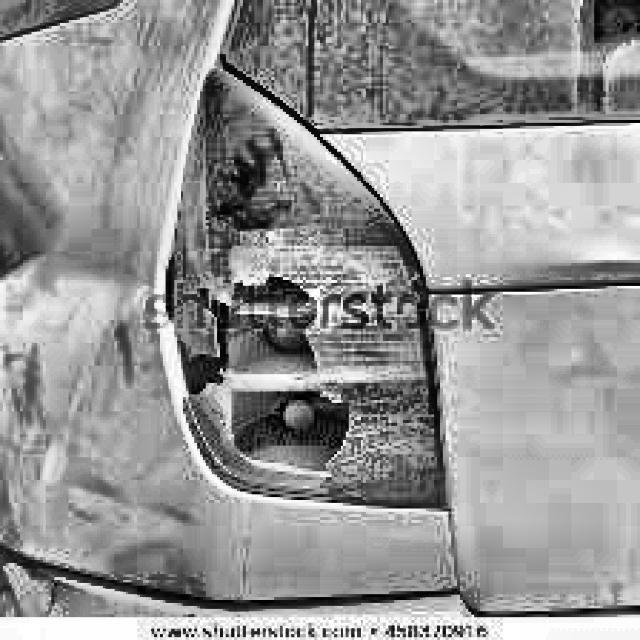tail_lamp: (194, 279, 362, 479)
